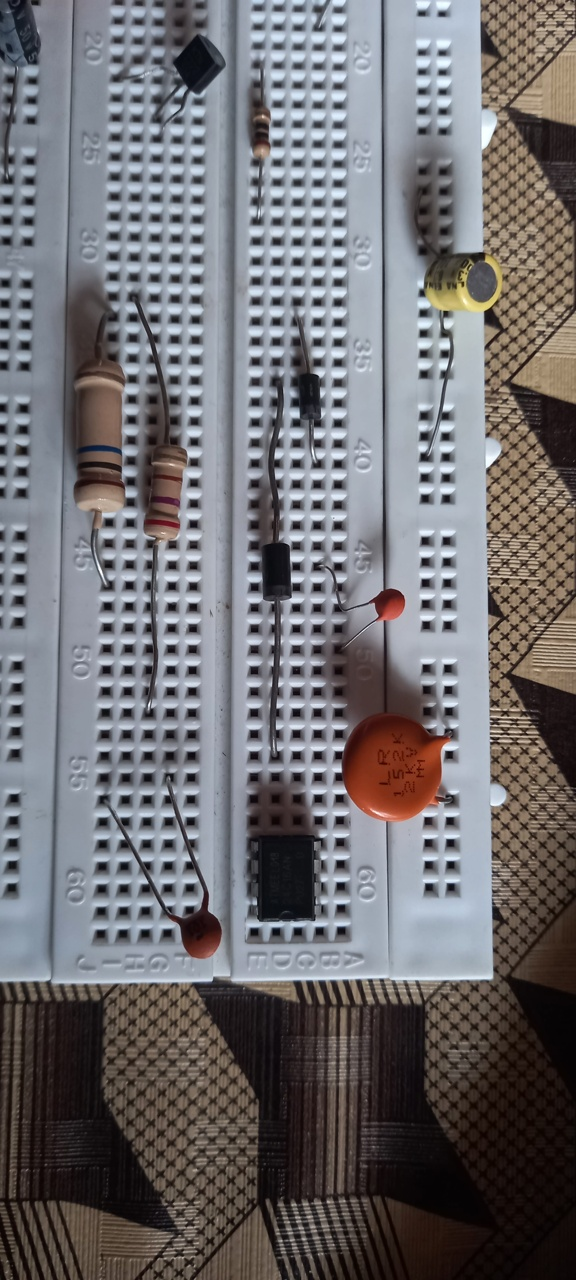capacitor: (338, 713, 445, 826), (178, 909, 222, 957), (373, 588, 409, 623)
resistor: (74, 355, 125, 512), (421, 250, 503, 316), (146, 447, 183, 538), (253, 107, 275, 158)
